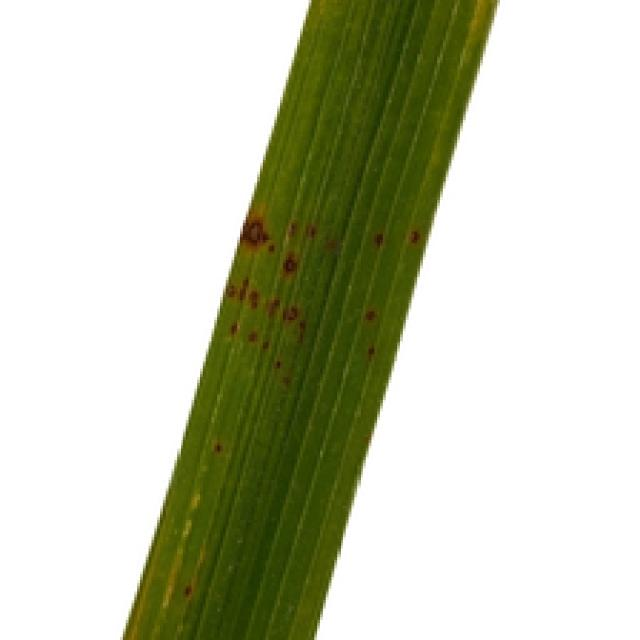Rice___Brown_Spot: (121, 1, 501, 637)
